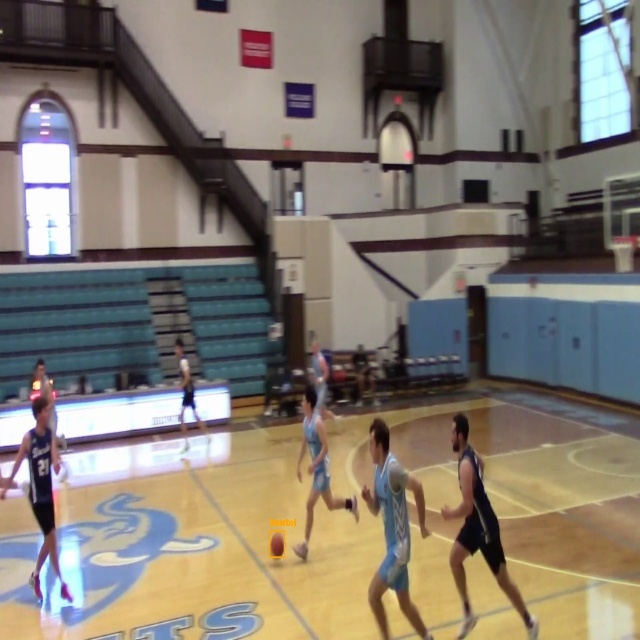Basketball: (270, 531, 285, 557)
